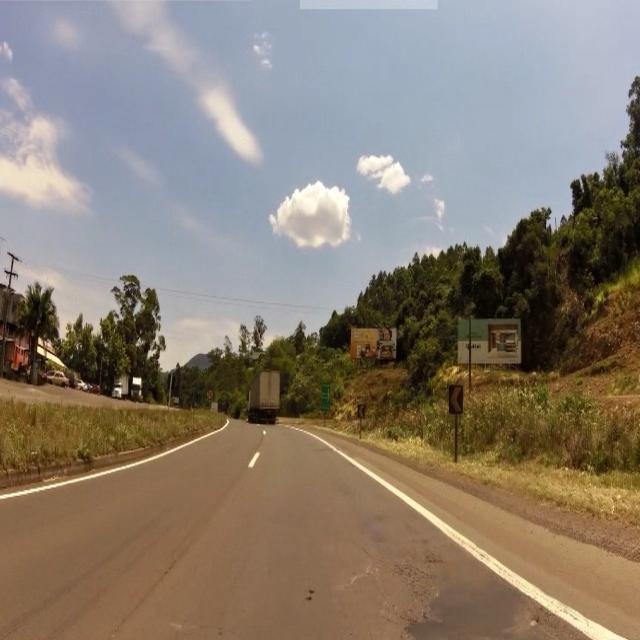Del: (448, 382, 467, 416), (356, 403, 367, 424)
R-5a: (207, 388, 214, 400)
